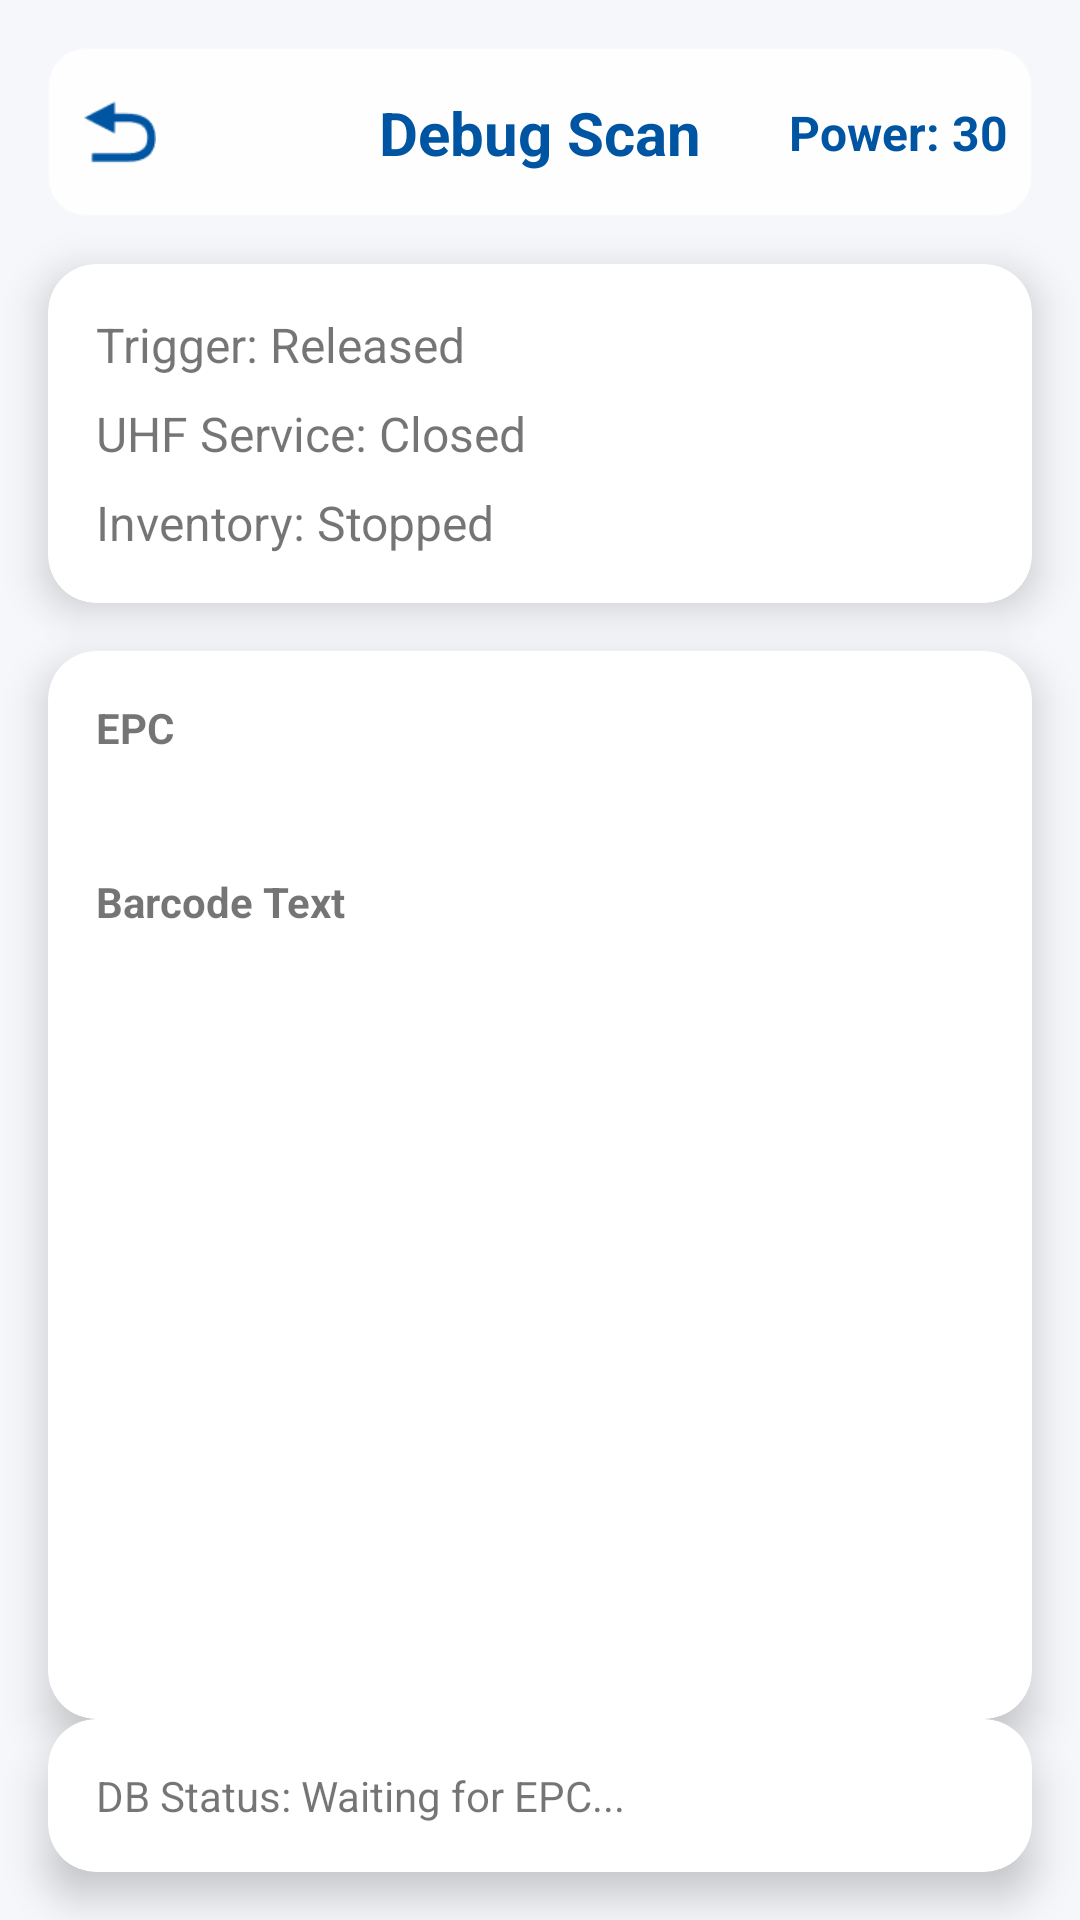

Named icons in this screenshot (1080 × 1920) and their centers, (x,y):
back: (120,132)
